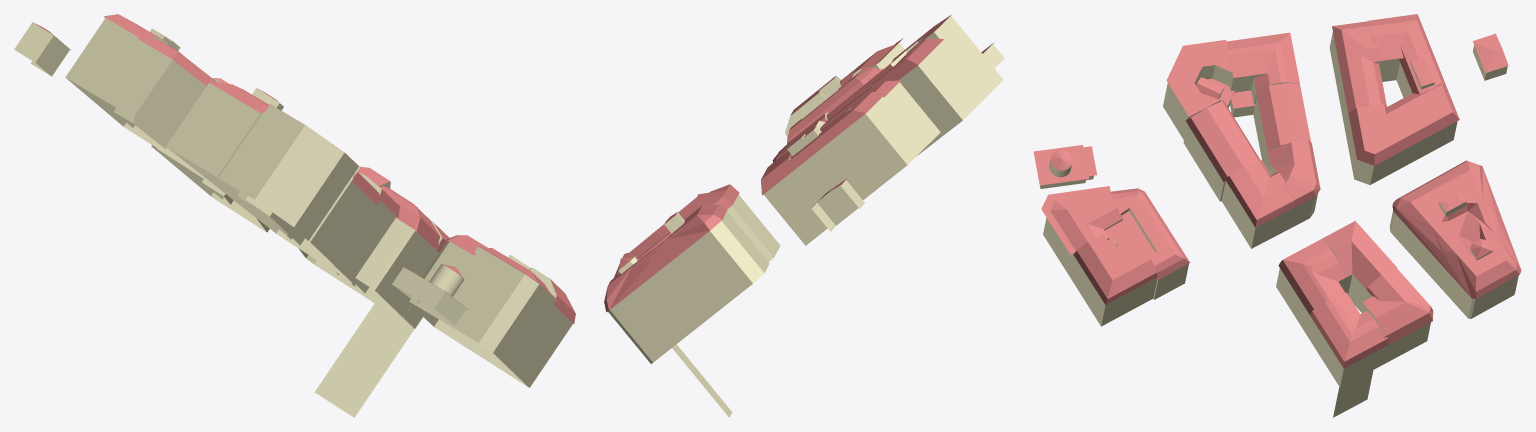
Rendered from tile_054.glb.
3 renders of one model, left to right at view 1: azimuth 30°, elevation 25°; view 2: azimuth 150°, elevation 25°; view 3: azimuth 270°, elevation 25°, orthographic. The views are drawn at different scales.
Parts seen in each view (by area): view 1: Batched_Building_ID_5E525707-D88F-4CFF-B5A4-2A7FCBB731B4; view 2: Batched_Building_ID_5E525707-D88F-4CFF-B5A4-2A7FCBB731B4; view 3: Batched_Building_ID_5E525707-D88F-4CFF-B5A4-2A7FCBB731B4.
Part boxes in pixels (x1,y1,x2,y2): Batched_Building_ID_5E525707-D88F-4CFF-B5A4-2A7FCBB731B4: (14, 14, 575, 417); Batched_Building_ID_5E525707-D88F-4CFF-B5A4-2A7FCBB731B4: (604, 14, 1004, 417); Batched_Building_ID_5E525707-D88F-4CFF-B5A4-2A7FCBB731B4: (1033, 14, 1521, 417).
Size of the model in its own units: 106 by 117 by 158.
